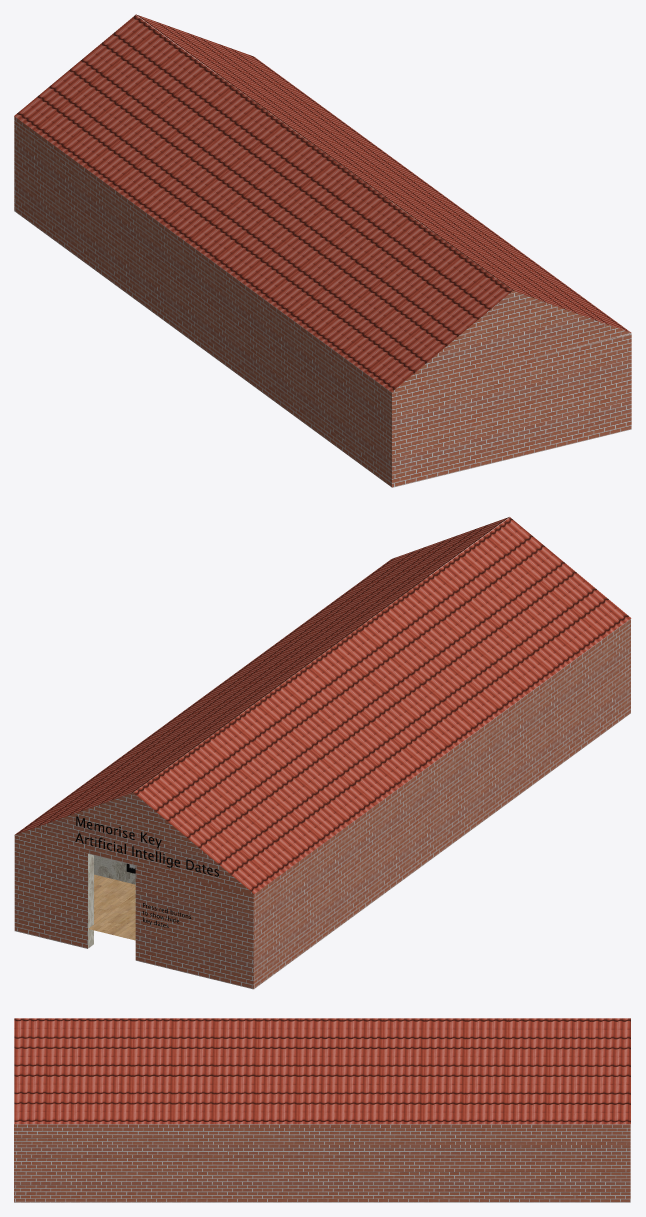
Rendered from walls_121.gltf.
3 renders of one model, top to bottom at view 1: azimuth 30°, elevation 25°; view 2: azimuth 150°, elevation 25°; view 3: azimuth 270°, elevation 25°, orthographic. The views are drawn at different scales.
Visible parts, largest first — view 1: polySurface4270; view 2: polySurface4270, polySurface4232, typeMesh46, polySurface4225; view 3: polySurface4270.
Part boxes in pixels (<box>): polySurface4270: <box>14,14,631,487</box>; polySurface4270: <box>14,517,631,989</box>; polySurface4232: <box>88,874,135,940</box>; typeMesh46: <box>75,816,218,876</box>; polySurface4225: <box>94,855,135,884</box>; polySurface4270: <box>14,1018,630,1202</box>.
Size of what is drawn, in the model's own units: 15.98 by 10.69 by 43.48.
15 materials, 11 textured.
